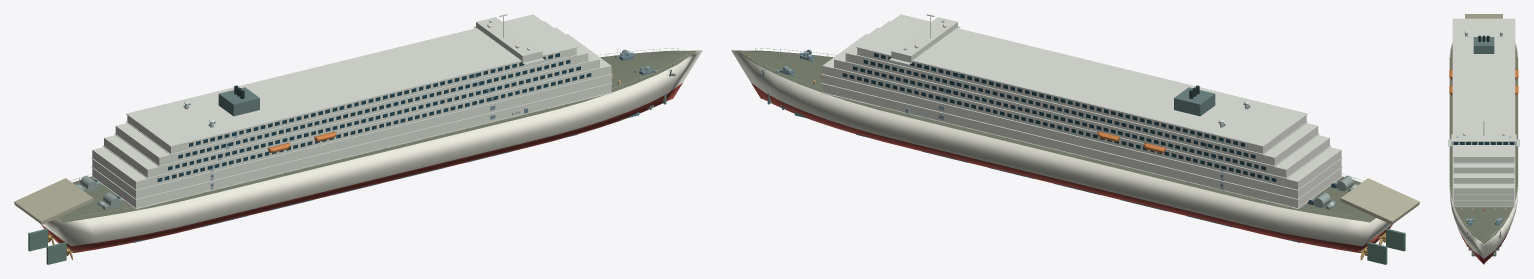
File: stena-estrid.lod0.glb
3 views of the same model, side by side, from view 1: azimuth 30°, elevation 25°; view 2: azimuth 150°, elevation 25°; view 3: azimuth 270°, elevation 25° (orthographic). The views are drawn at different scales.
Visible parts, largest first — view 1: stena-estrid.accommodation.superstructure.deck-6-enclosure.1, stena-estrid.structure.hull.outer-hull-shell.1, stena-estrid.structure.decks.main-strength-deck.1, stena-estrid.accommodation.superstructure.deck-2-enclosure.1, stena-estrid.accommodation.superstructure.deck-1-enclosure.1, stena-estrid.accommodation.superstructure.deck-3-enclosure.1, stena-estrid.accommodation.superstructure.deck-4-enclosure.1, stena-estrid.accommodation.superstructure.deck-5-enclosure.1, stena-estrid.structure.hull.antifouling-underwater-shell.1, stena-estrid.cargo.vehicle-access.stern-loading-ramp.1, stena-estrid.navigation.bridge.wheelhouse.1, stena-estrid.accommodation.superstructure.superstructure-wea (+8 smaller); view 2: stena-estrid.accommodation.superstructure.deck-6-enclosure.1, stena-estrid.structure.hull.outer-hull-shell.1, stena-estrid.structure.decks.main-strength-deck.1, stena-estrid.accommodation.superstructure.deck-2-enclosure.1, stena-estrid.accommodation.superstructure.deck-1-enclosure.1, stena-estrid.accommodation.superstructure.deck-3-enclosure.1, stena-estrid.accommodation.superstructure.deck-4-enclosure.1, stena-estrid.accommodation.superstructure.deck-5-enclosure.1, stena-estrid.structure.hull.antifouling-underwater-shell.1, stena-estrid.cargo.vehicle-access.stern-loading-ramp.1, stena-estrid.navigation.bridge.wheelhouse.1, stena-estrid.accommodation.superstructure.superstructure-wea (+8 smaller); view 3: stena-estrid.accommodation.superstructure.deck-6-enclosure.1, stena-estrid.structure.decks.main-strength-deck.1, stena-estrid.structure.hull.outer-hull-shell.1, stena-estrid.accommodation.superstructure.deck-4-enclosure.1, stena-estrid.accommodation.superstructure.deck-3-enclosure.1, stena-estrid.accommodation.superstructure.deck-5-enclosure.1, stena-estrid.navigation.bridge.wheelhouse.1, stena-estrid.accommodation.superstructure.superstructure-wea, stena-estrid.accommodation.superstructure.deck-2-enclosure.1, stena-estrid.accommodation.superstructure.deck-1-enclosure.1, stena-estrid.propulsion.exhaust.exhaust-casing.1, stena-estrid.cargo.vehicle-access.stern-loading-ramp.1 (+7 smaller).
Boxes of the visible parts, x1=… form: stena-estrid.accommodation.superstructure.deck-6-enclosure.1: x1=127, y1=15, x2=576, y2=153; stena-estrid.structure.hull.outer-hull-shell.1: x1=42, y1=50, x2=702, y2=246; stena-estrid.structure.decks.main-strength-deck.1: x1=58, y1=51, x2=696, y2=222; stena-estrid.accommodation.superstructure.deck-2-enclosure.1: x1=92, y1=75, x2=611, y2=198; stena-estrid.accommodation.superstructure.deck-1-enclosure.1: x1=92, y1=84, x2=611, y2=208; stena-estrid.accommodation.superstructure.deck-3-enclosure.1: x1=92, y1=34, x2=611, y2=189; stena-estrid.accommodation.superstructure.deck-4-enclosure.1: x1=104, y1=27, x2=599, y2=177; stena-estrid.accommodation.superstructure.deck-5-enclosure.1: x1=115, y1=21, x2=588, y2=165; stena-estrid.structure.hull.antifouling-underwater-shell.1: x1=41, y1=83, x2=682, y2=252; stena-estrid.cargo.vehicle-access.stern-loading-ramp.1: x1=14, y1=178, x2=93, y2=224; stena-estrid.navigation.bridge.wheelhouse.1: x1=476, y1=17, x2=542, y2=63; stena-estrid.accommodation.superstructure.superstructure-wea: x1=126, y1=14, x2=577, y2=146; stena-estrid.accommodation.superstructure.deck-6-enclosure.1: x1=857, y1=15, x2=1306, y2=153; stena-estrid.structure.hull.outer-hull-shell.1: x1=731, y1=50, x2=1391, y2=246; stena-estrid.structure.decks.main-strength-deck.1: x1=737, y1=51, x2=1375, y2=222; stena-estrid.accommodation.superstructure.deck-2-enclosure.1: x1=822, y1=75, x2=1341, y2=198; stena-estrid.accommodation.superstructure.deck-1-enclosure.1: x1=822, y1=84, x2=1341, y2=208; stena-estrid.accommodation.superstructure.deck-3-enclosure.1: x1=822, y1=34, x2=1341, y2=189; stena-estrid.accommodation.superstructure.deck-4-enclosure.1: x1=834, y1=27, x2=1329, y2=177; stena-estrid.accommodation.superstructure.deck-5-enclosure.1: x1=845, y1=21, x2=1318, y2=165; stena-estrid.structure.hull.antifouling-underwater-shell.1: x1=751, y1=83, x2=1392, y2=252; stena-estrid.cargo.vehicle-access.stern-loading-ramp.1: x1=1340, y1=178, x2=1419, y2=224; stena-estrid.navigation.bridge.wheelhouse.1: x1=891, y1=17, x2=957, y2=63; stena-estrid.accommodation.superstructure.superstructure-wea: x1=856, y1=14, x2=1307, y2=146; stena-estrid.accommodation.superstructure.deck-6-enclosure.1: x1=1453, y1=18, x2=1514, y2=162; stena-estrid.structure.decks.main-strength-deck.1: x1=1450, y1=45, x2=1517, y2=243; stena-estrid.structure.hull.outer-hull-shell.1: x1=1449, y1=41, x2=1518, y2=258; stena-estrid.accommodation.superstructure.deck-4-enclosure.1: x1=1453, y1=173, x2=1514, y2=183; stena-estrid.accommodation.superstructure.deck-3-enclosure.1: x1=1453, y1=184, x2=1514, y2=193; stena-estrid.accommodation.superstructure.deck-5-enclosure.1: x1=1453, y1=163, x2=1514, y2=172; stena-estrid.navigation.bridge.wheelhouse.1: x1=1451, y1=134, x2=1516, y2=146; stena-estrid.accommodation.superstructure.superstructure-wea: x1=1452, y1=18, x2=1515, y2=157; stena-estrid.accommodation.superstructure.deck-2-enclosure.1: x1=1453, y1=194, x2=1514, y2=200; stena-estrid.accommodation.superstructure.deck-1-enclosure.1: x1=1453, y1=201, x2=1514, y2=206; stena-estrid.propulsion.exhaust.exhaust-casing.1: x1=1473, y1=37, x2=1494, y2=53; stena-estrid.cargo.vehicle-access.stern-loading-ramp.1: x1=1465, y1=14, x2=1502, y2=18.
Bounding box in the file's own units: 219 × 40.05 × 28.95.
